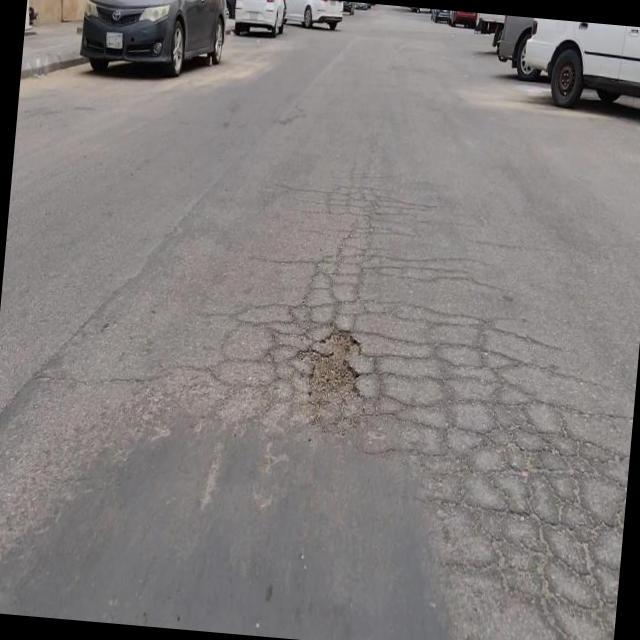Pothole: (303, 328, 364, 404)
